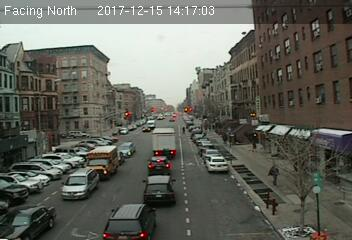car: (1, 202, 59, 240), (102, 201, 158, 240), (62, 168, 99, 199), (143, 174, 176, 207), (146, 155, 171, 175), (204, 155, 231, 173)
pedestrian: (269, 165, 280, 187)
truck: (86, 145, 119, 179), (151, 126, 176, 156)
